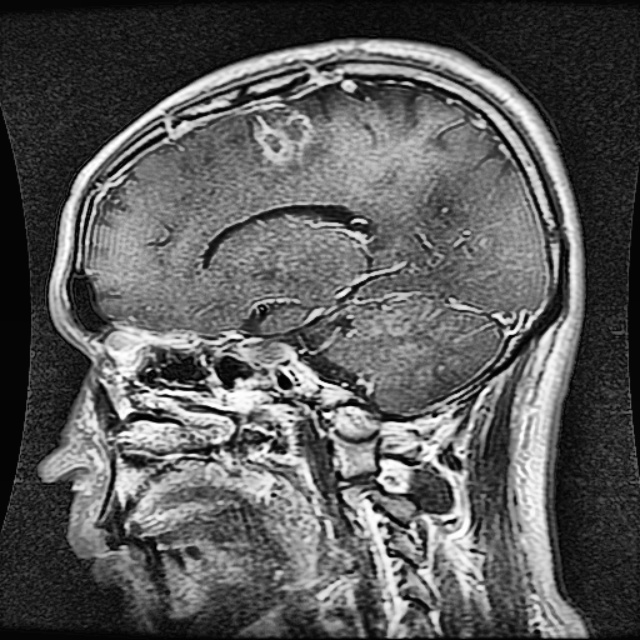Meningioma: (250, 107, 313, 164)
